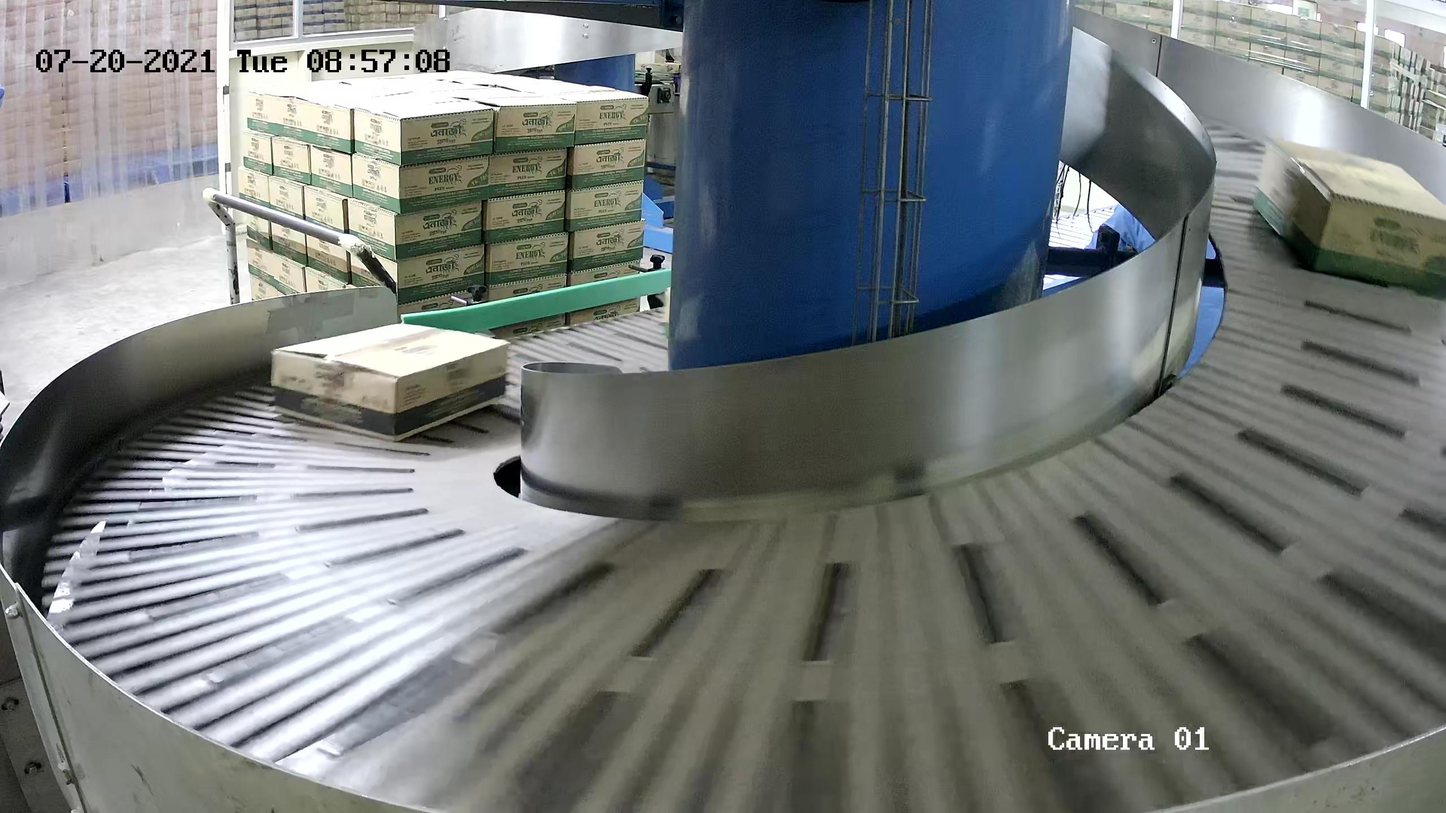Box: (1252, 131, 1446, 299), (269, 321, 511, 445)
